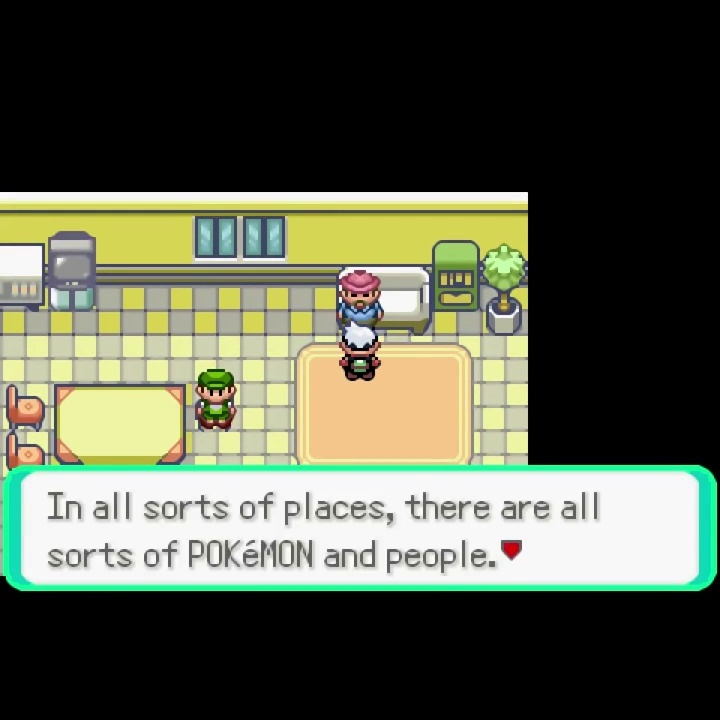agent: (337, 320, 385, 384)
npc: (193, 365, 237, 435), (336, 267, 385, 322)
